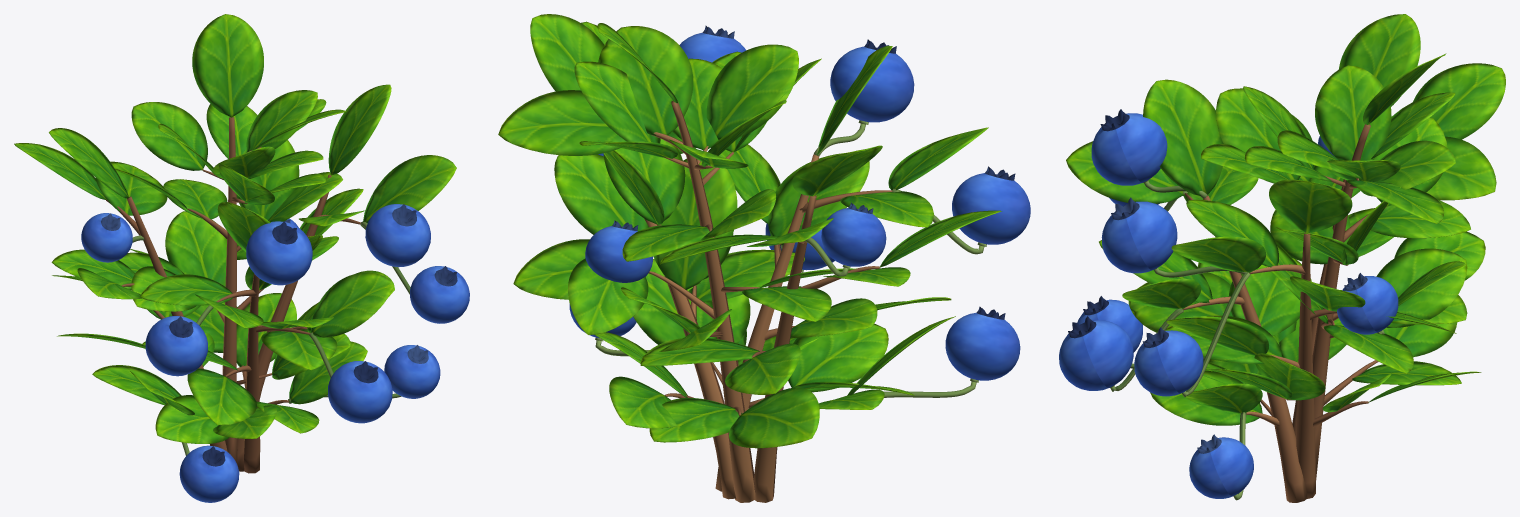
The model's file is NP_Blueberry_Ready.fbx.
3 views of the same model, side by side, from view 1: azimuth 30°, elevation 25°; view 2: azimuth 150°, elevation 25°; view 3: azimuth 270°, elevation 25° (orthographic). The views are drawn at different scales.
Parts seen in each view (by area): view 1: NP_Blueberry_Ready; view 2: NP_Blueberry_Ready; view 3: NP_Blueberry_Ready.
Boxes of the visible parts, x1,y1,x2,y2 form: NP_Blueberry_Ready: (14, 14, 469, 502); NP_Blueberry_Ready: (498, 14, 1030, 502); NP_Blueberry_Ready: (1059, 14, 1505, 502).
Size of the model in its own units: 70.53 by 77.46 by 67.27.
Materials: 1 (1 with a texture image).
